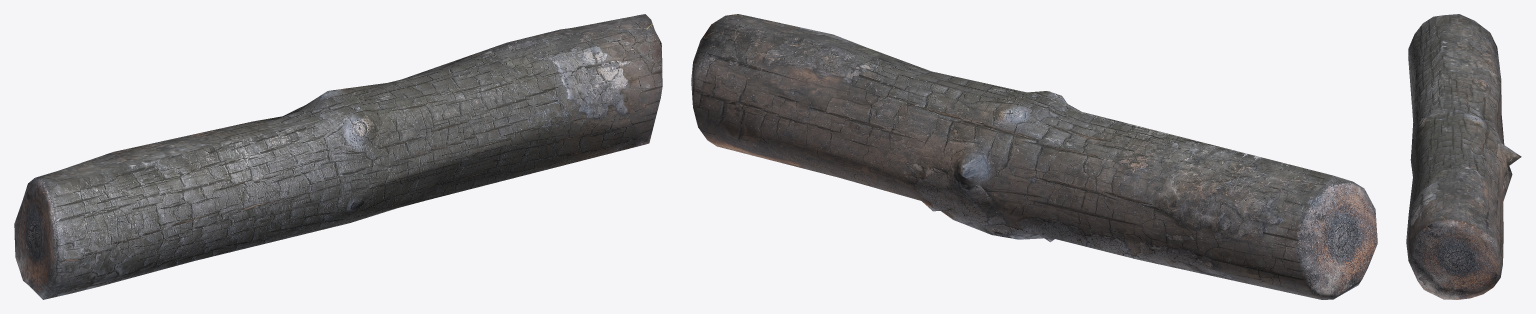
Rendered from SM_BurntLog_02_02.fbx.
3 renders of one model, left to right at view 1: azimuth 30°, elevation 25°; view 2: azimuth 150°, elevation 25°; view 3: azimuth 270°, elevation 25°, orthographic. The views are drawn at different scales.
Visible parts, largest first — view 1: sm_BurntLog_02_02_LOD0; view 2: sm_BurntLog_02_02_LOD0; view 3: sm_BurntLog_02_02_LOD0.
Boxes of the visible parts, x1,y1,x2,y2 form: sm_BurntLog_02_02_LOD0: [14, 14, 662, 299]; sm_BurntLog_02_02_LOD0: [691, 14, 1377, 299]; sm_BurntLog_02_02_LOD0: [1406, 14, 1521, 299].
Bounding box in the file's own units: 14.46 × 66.99 × 14.01.
